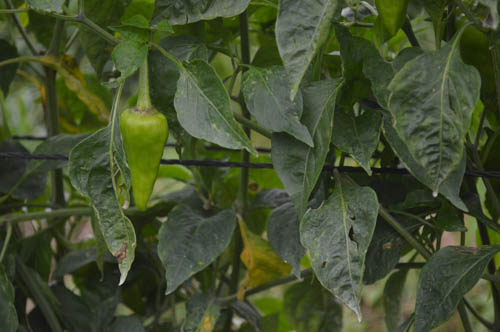ChiliPepper: (119, 111, 170, 211)
